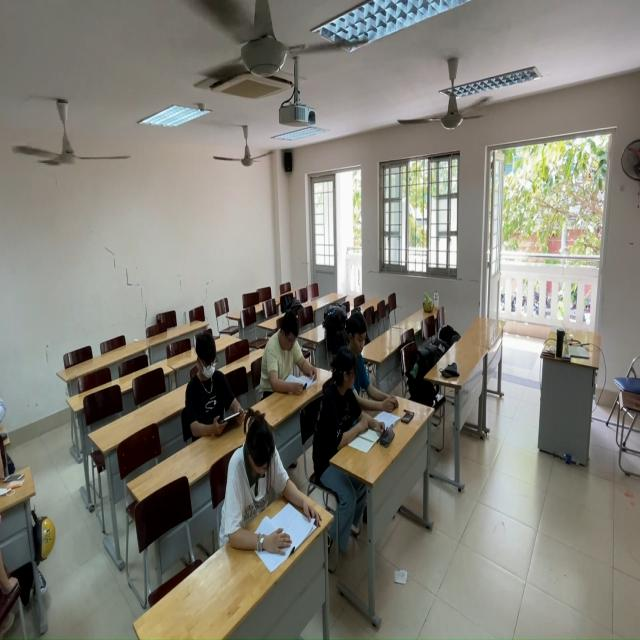read: (215, 406, 326, 562), (314, 350, 385, 478), (182, 332, 255, 449), (343, 320, 413, 418), (257, 309, 323, 396)
